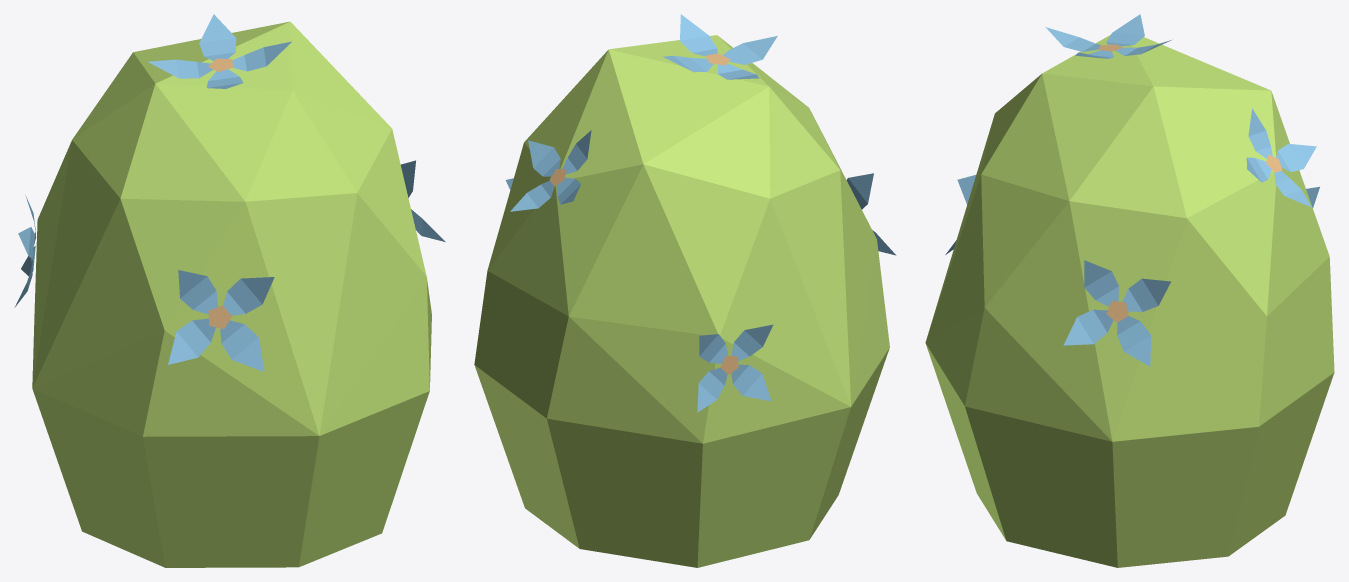
File: FlowerBush_h_m_06.fbx
3 views of the same model, side by side, from view 1: azimuth 30°, elevation 25°; view 2: azimuth 150°, elevation 25°; view 3: azimuth 270°, elevation 25° (orthographic). The views are drawn at different scales.
Visible parts, largest first — view 1: FlowerBush_h_m_06; view 2: FlowerBush_h_m_06; view 3: FlowerBush_h_m_06.
Boxes of the visible parts, x1,y1,x2,y2 form: FlowerBush_h_m_06: [14, 14, 445, 567]; FlowerBush_h_m_06: [474, 14, 896, 567]; FlowerBush_h_m_06: [925, 14, 1334, 567].
Size of the model in its own units: 1.15 by 1.4 by 1.11.
